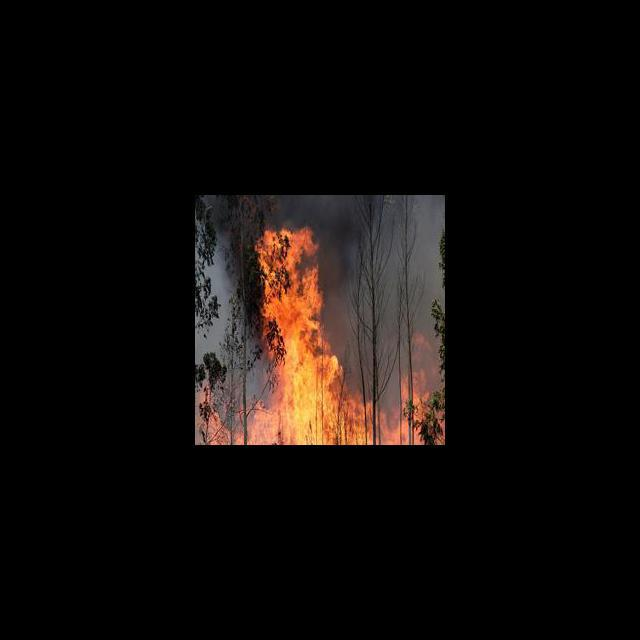Fire: (259, 222, 360, 444), (196, 368, 438, 444)
